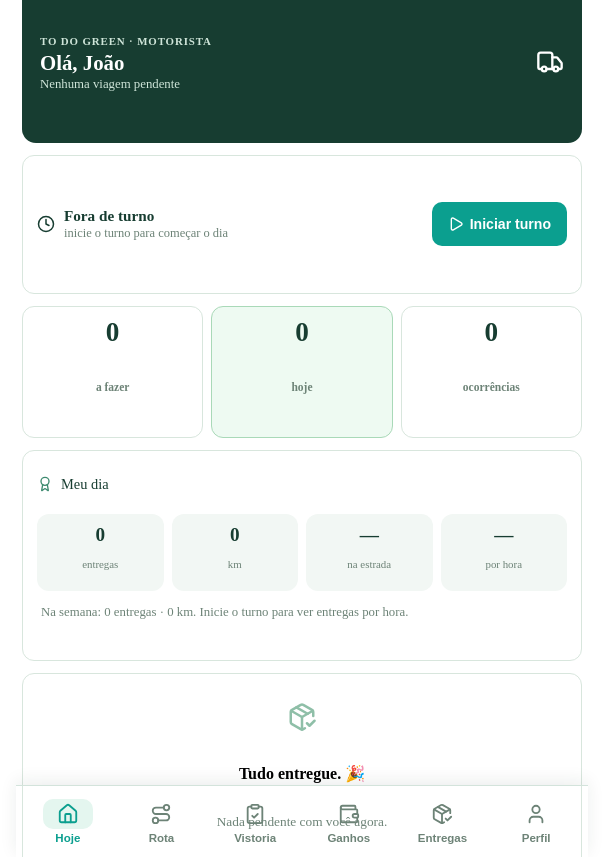
Test: app do motorista — score › sem entregas, convida em vez de mostrar zero
Expected: the heading "Olá, João" is shown, [40,52,124,74]
Click the button "Perfil".
click(536, 822)  # box [490,792,582,851]
(page scrolled)
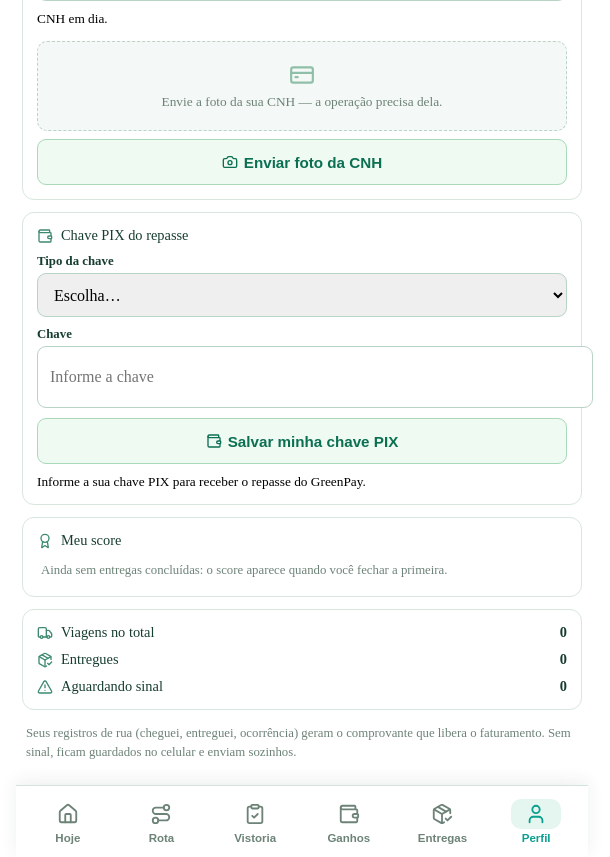
Now the text "Ainda sem entregas concluídas" is shown, box [41,563,448,577]
